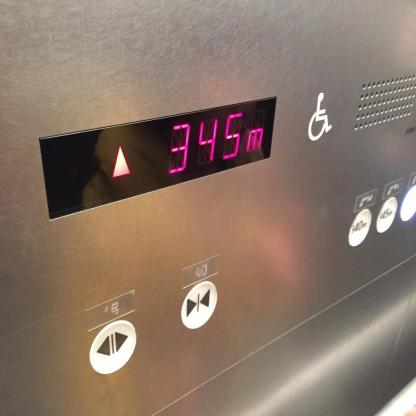close: (181, 279, 218, 329)
empty: (399, 183, 416, 221)
led: (38, 96, 276, 220)
open: (88, 320, 136, 375)
text_340m: (347, 207, 372, 247)
text_345m: (376, 196, 398, 233)
